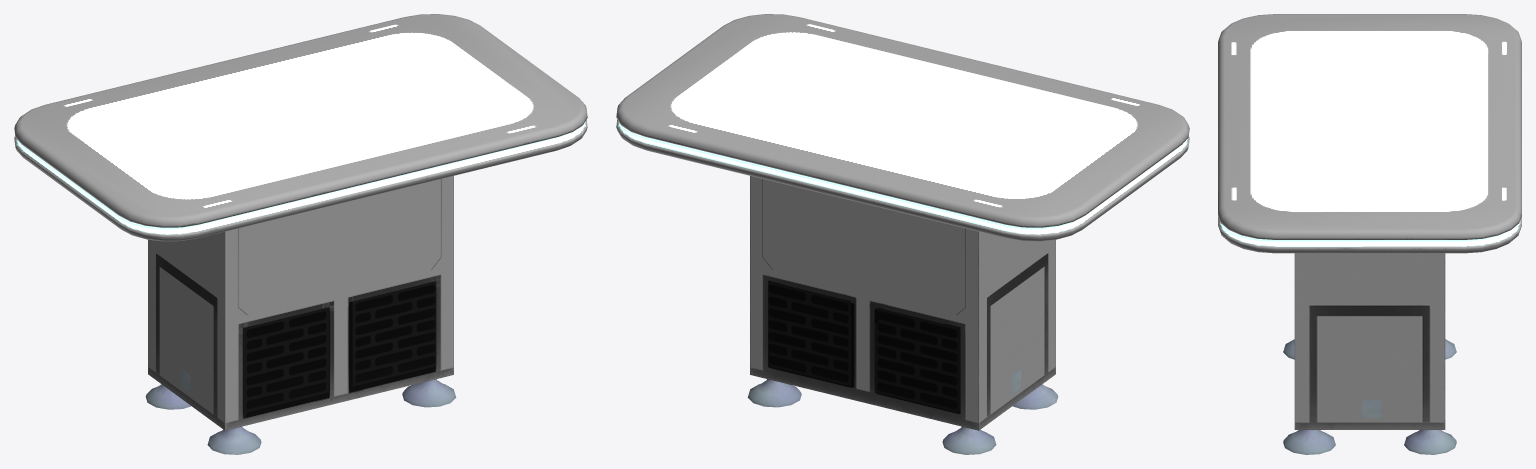
The model's file is tablehall.glb.
3 renders of one model, left to right at view 1: azimuth 30°, elevation 25°; view 2: azimuth 150°, elevation 25°; view 3: azimuth 270°, elevation 25°, orthographic. The views are drawn at different scales.
Visible parts, largest first — view 1: Object_2; view 2: Object_2; view 3: Object_2.
Boxes of the visible parts, <box> form: Object_2: <box>14,14,587,454</box>; Object_2: <box>616,14,1189,454</box>; Object_2: <box>1218,14,1521,454</box>.
Size of the model in its own units: 1.2 by 0.7 by 0.7.
1 material, 1 textured.
